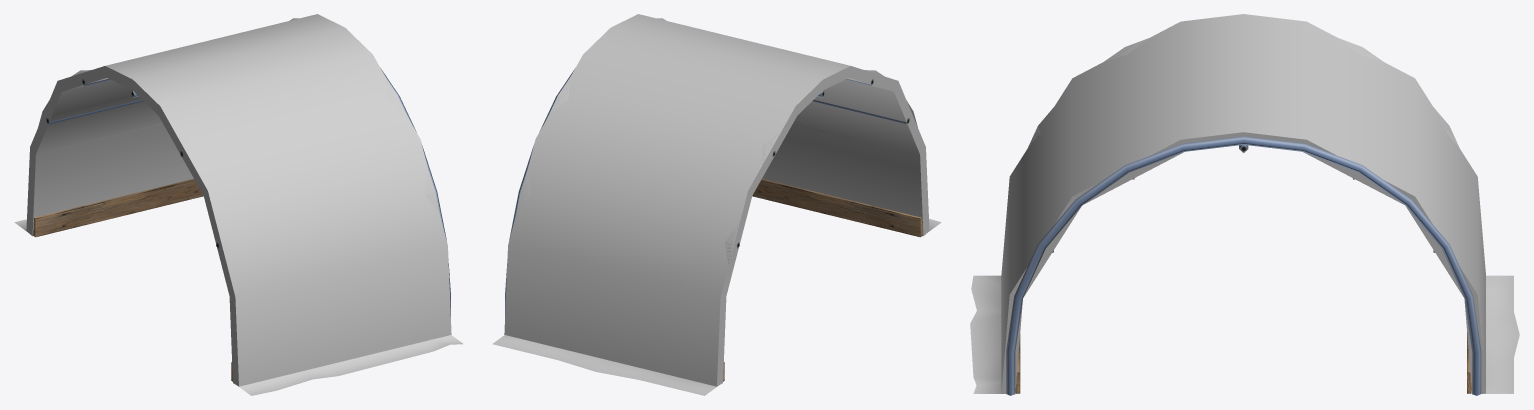
File: greenHouse_mid.FBX
The picture shows the model from 3 angles, left to right: view 1: azimuth 30°, elevation 25°; view 2: azimuth 150°, elevation 25°; view 3: azimuth 270°, elevation 25°; orthographic projection. The views are drawn at different scales.
Visible parts, largest first — view 1: greenHouse_mid_COL, greenHouse_mid, greenHouse_mid_top; view 2: greenHouse_mid_COL, greenHouse_mid, greenHouse_mid_top; view 3: greenHouse_mid_COL, greenHouse_mid, greenHouse_mid_top.
Boxes of the visible parts, x1,y1,x2,y2 form: greenHouse_mid_COL: [26, 14, 451, 386]; greenHouse_mid: [14, 69, 462, 395]; greenHouse_mid_top: [42, 18, 435, 243]; greenHouse_mid_COL: [504, 14, 929, 386]; greenHouse_mid: [492, 69, 941, 395]; greenHouse_mid_top: [520, 18, 913, 243]; greenHouse_mid_COL: [1001, 14, 1485, 394]; greenHouse_mid: [970, 126, 1519, 395]; greenHouse_mid_top: [1038, 38, 1449, 177].
Size of the model in its own units: 305 by 311 by 590.
